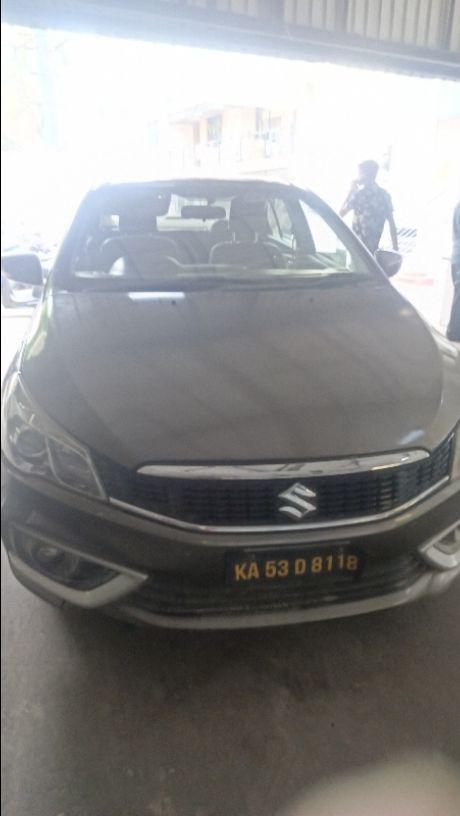license_plate: (222, 542, 365, 588)
